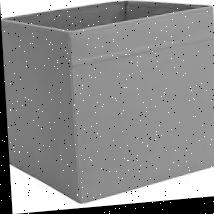cube: (1, 0, 214, 210)
